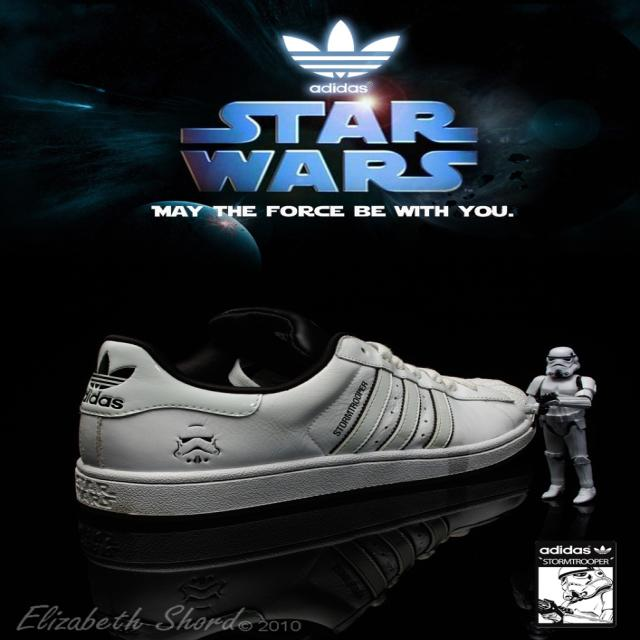adidas: (277, 15, 408, 96), (81, 350, 146, 414)
